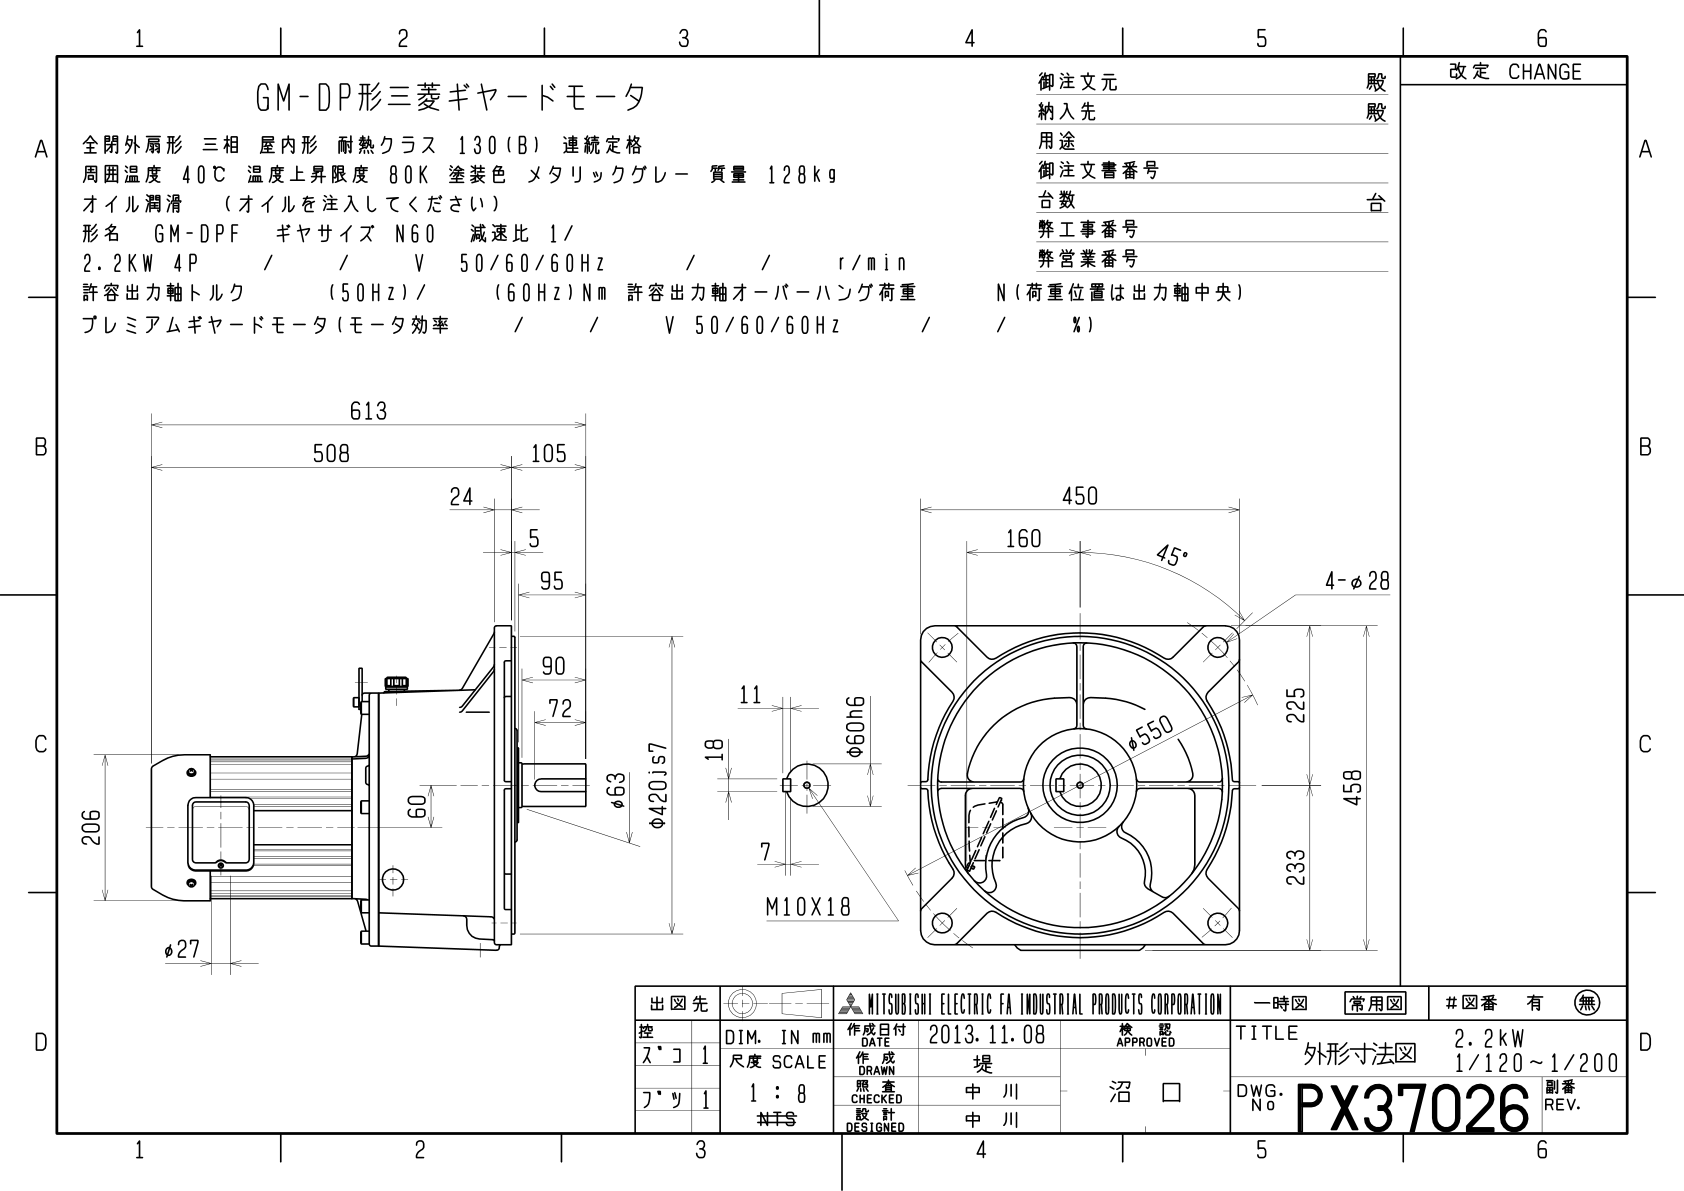GM_DP_屋内_三相_フランジ: (1, 1, 1670, 1185)
